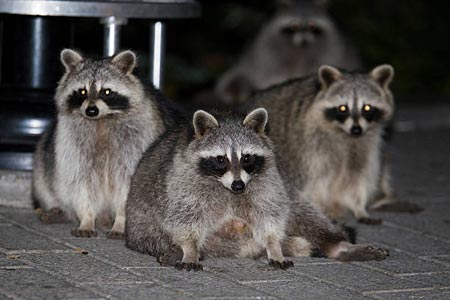raccoon: (146, 107, 300, 283), (29, 44, 161, 246), (276, 64, 415, 229)
